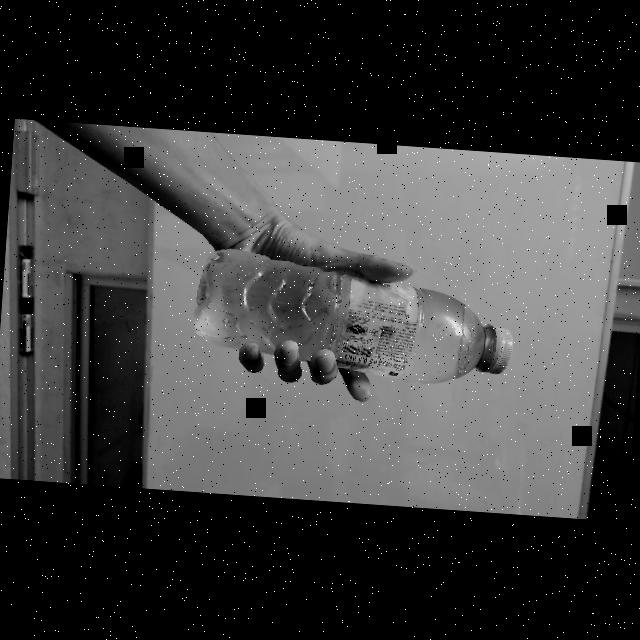plastic_bottle: (183, 242, 521, 396)
